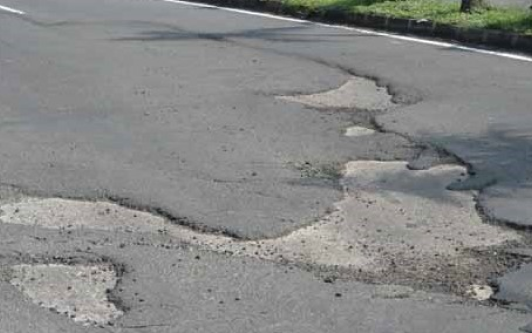Berlubang: (1, 162, 527, 314), (1, 249, 181, 332), (243, 55, 415, 116), (335, 120, 387, 139)
